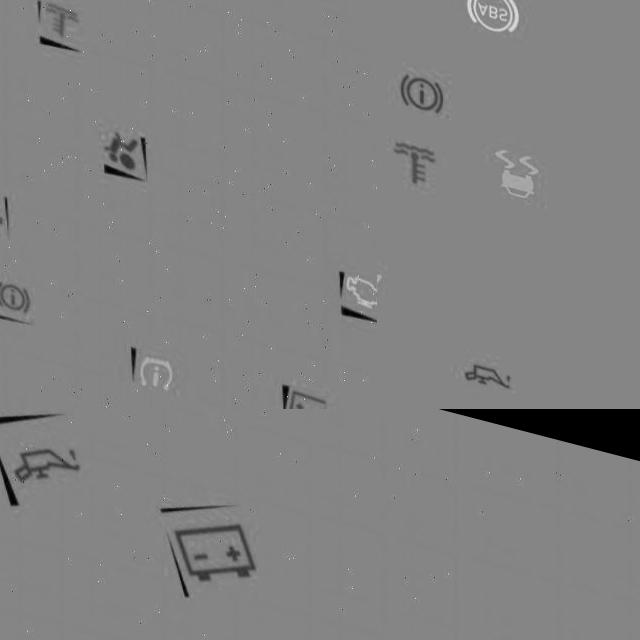High Engine Coolant Temperature: (386, 123, 443, 192)
